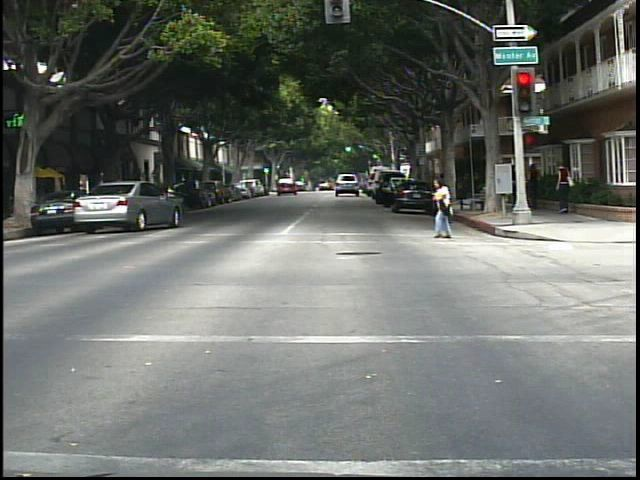person: (427, 176, 464, 244), (554, 158, 576, 218), (528, 158, 548, 214)
